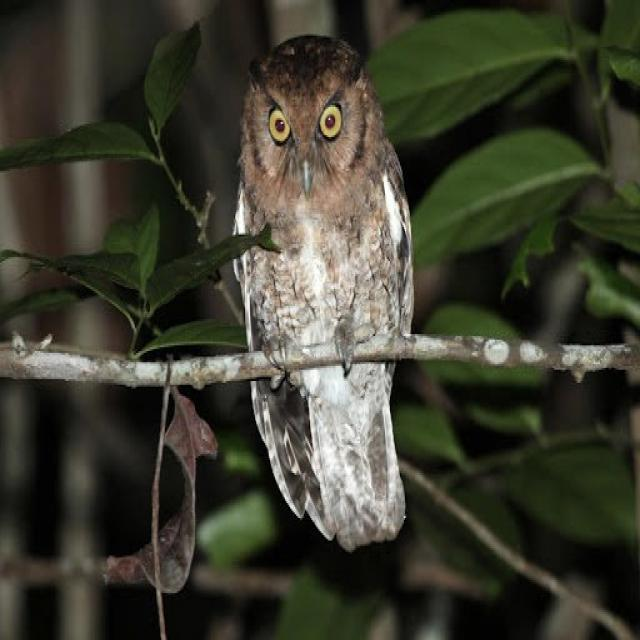owl: (232, 36, 411, 550)
